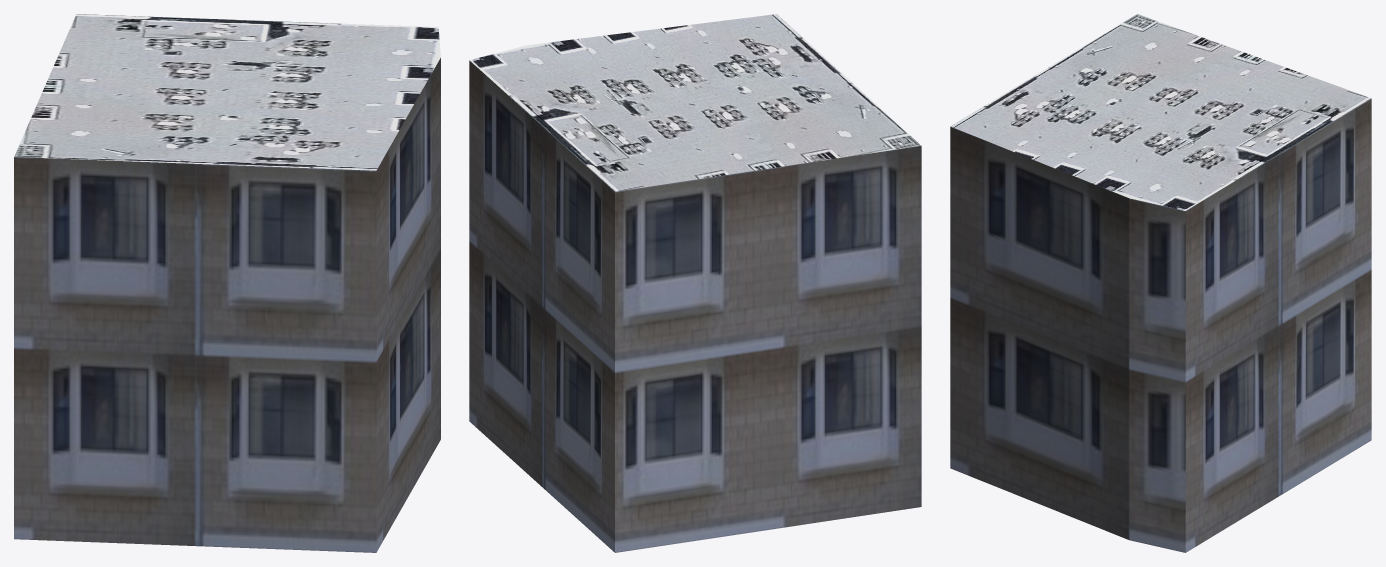
The model's file is ResTex__2776.fbx.
3 views of the same model, side by side, from view 1: azimuth 30°, elevation 25°; view 2: azimuth 150°, elevation 25°; view 3: azimuth 270°, elevation 25° (orthographic). The views are drawn at different scales.
Visible parts, largest first — view 1: CityEngineMaterial_3_m, CityEngineMaterial_8_m; view 2: CityEngineMaterial_3_m, CityEngineMaterial_8_m; view 3: CityEngineMaterial_3_m, CityEngineMaterial_8_m.
Part boxes in pixels (x1=…): CityEngineMaterial_3_m: x1=14, y1=58, x2=440, y2=552; CityEngineMaterial_8_m: x1=14, y1=14, x2=440, y2=170; CityEngineMaterial_3_m: x1=469, y1=60, x2=921, y2=552; CityEngineMaterial_8_m: x1=470, y1=14, x2=921, y2=191; CityEngineMaterial_3_m: x1=950, y1=98, x2=1371, y2=552; CityEngineMaterial_8_m: x1=950, y1=14, x2=1371, y2=210.
Bounding box in the file's own units: 7.42 × 6 × 6.7.
Materials: 2 (2 with a texture image).
